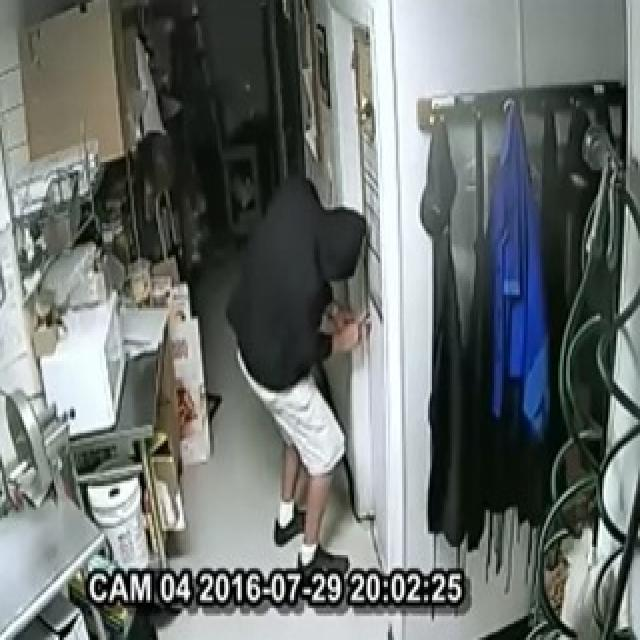thief: (229, 168, 381, 570)
